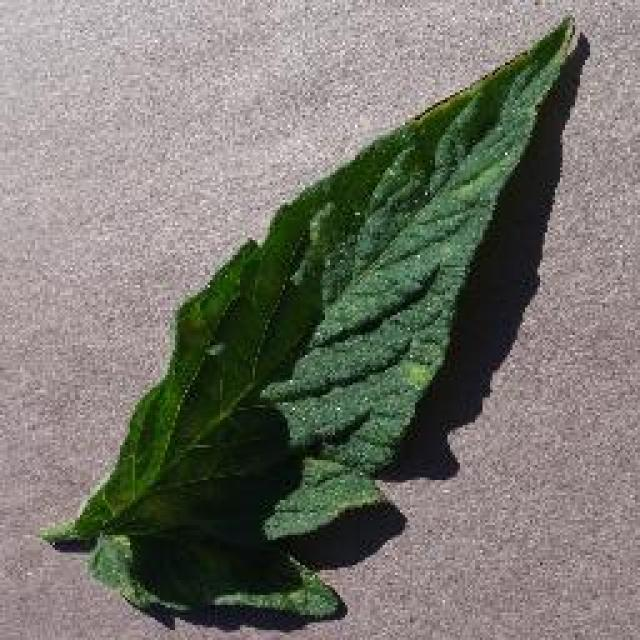Tomato mold leaf: (51, 24, 566, 631)
